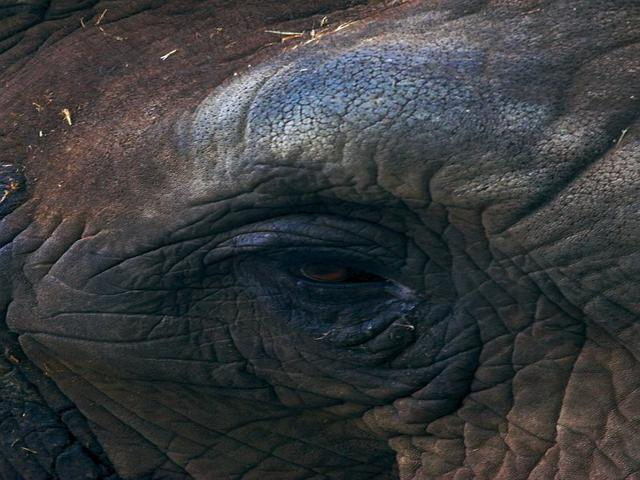elephant: (19, 16, 627, 452)
